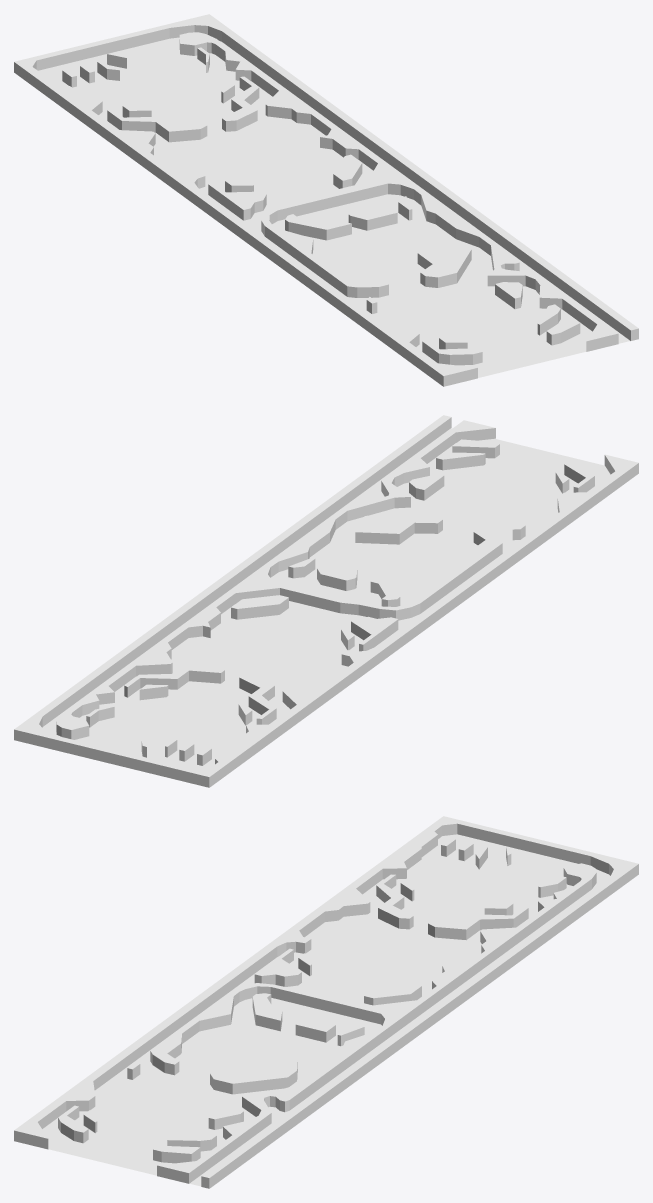
Rendered from table_scene3.obj.
The picture shows the model from 3 angles, top to bottom: view 1: azimuth 30°, elevation 25°; view 2: azimuth 150°, elevation 25°; view 3: azimuth 330°, elevation 25°; orthographic projection.
Parts seen in each view (by area): view 1: Plane, Plane.001_Plane.003; view 2: Plane, Plane.001_Plane.003; view 3: Plane, Plane.001_Plane.003.
Part boxes in pixels (x1=…): Plane: x1=14, y1=14, x2=638, y2=386; Plane.001_Plane.003: x1=38, y1=37, x2=629, y2=377; Plane: x1=14, y1=415, x2=638, y2=787; Plane.001_Plane.003: x1=42, y1=428, x2=610, y2=769; Plane: x1=14, y1=816, x2=638, y2=1188; Plane.001_Plane.003: x1=42, y1=834, x2=610, y2=1186.
Bounding box in the file's own units: 9.58 × 0.5034 × 36.44.
Materials: 2 (2 with a texture image).
